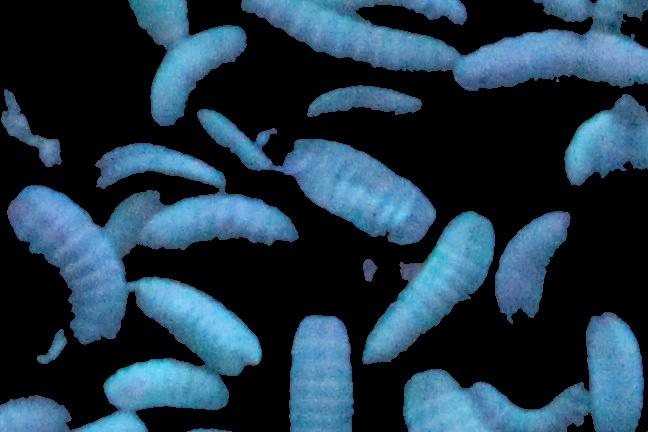larvae: (364, 213, 497, 364), (6, 183, 128, 343), (240, 1, 457, 70), (129, 277, 262, 375), (449, 31, 648, 89), (290, 158, 414, 238), (149, 26, 247, 127), (296, 141, 432, 212), (285, 307, 361, 432), (493, 208, 573, 319), (143, 193, 298, 249), (99, 355, 232, 414), (586, 314, 648, 427), (472, 382, 588, 432), (91, 148, 224, 189), (195, 110, 278, 172), (398, 371, 478, 432), (559, 109, 618, 190), (303, 87, 429, 121), (100, 190, 160, 247), (126, 1, 191, 45)
